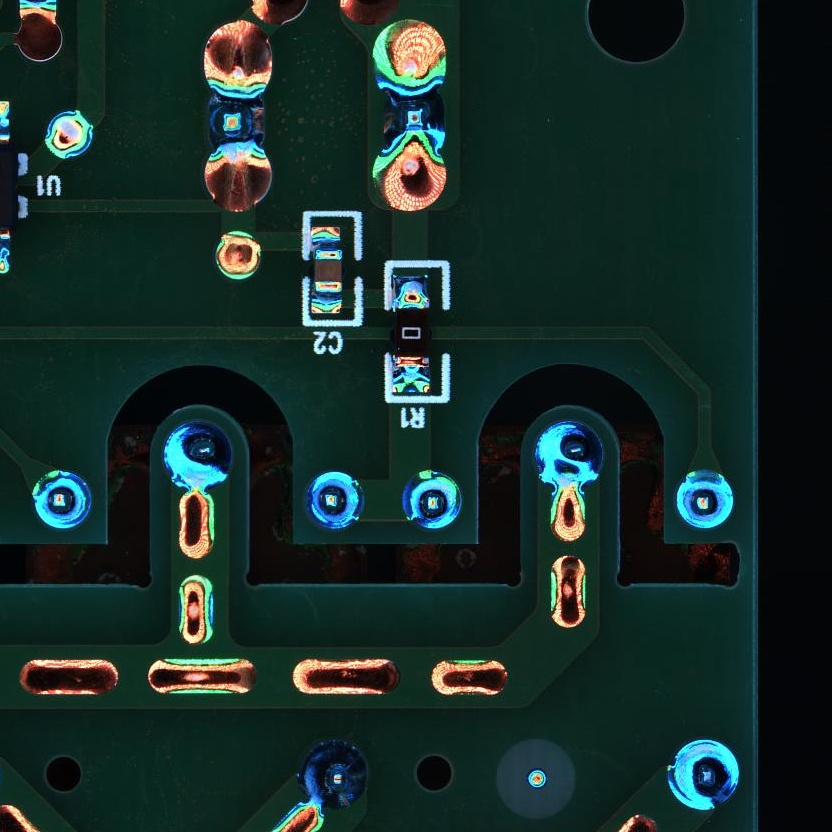spot: (296, 738, 372, 811), (666, 738, 742, 811), (161, 419, 235, 493), (531, 419, 607, 491), (372, 82, 449, 153), (202, 89, 270, 157), (401, 470, 465, 532), (32, 470, 93, 531), (305, 472, 367, 530), (675, 470, 734, 530), (44, 109, 96, 161)
